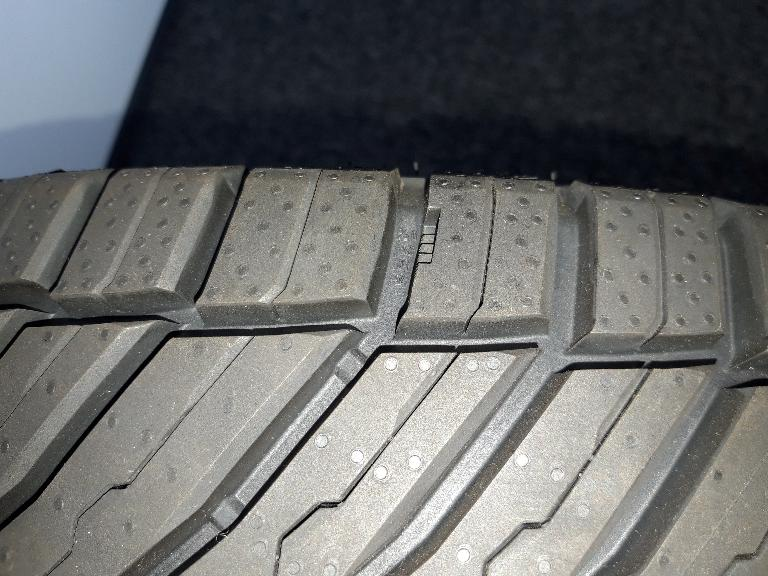temoin:100: (410, 205, 443, 277)
